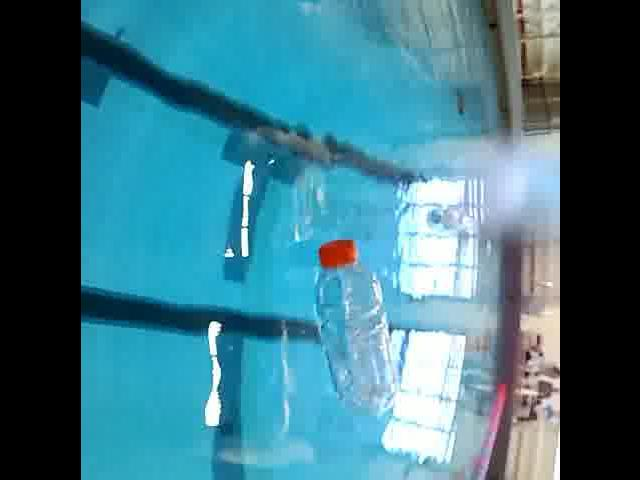Bottle: (306, 230, 404, 420)
